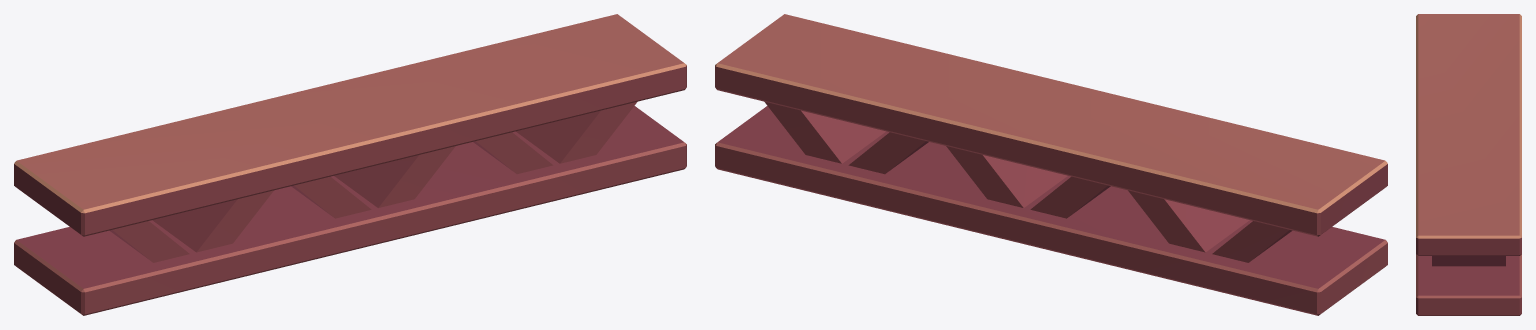
The model's file is Factory_ShortCube_1.fbx.
3 renders of one model, left to right at view 1: azimuth 30°, elevation 25°; view 2: azimuth 150°, elevation 25°; view 3: azimuth 270°, elevation 25°, orthographic. The views are drawn at different scales.
Parts seen in each view (by area): view 1: Factory_ShortCube_1; view 2: Factory_ShortCube_1; view 3: Factory_ShortCube_1.
Part boxes in pixels (<box>): Factory_ShortCube_1: <box>14,14,686,315</box>; Factory_ShortCube_1: <box>715,14,1387,315</box>; Factory_ShortCube_1: <box>1416,14,1521,315</box>.
Size of the model in its own units: 158 by 26.48 by 31.62.
